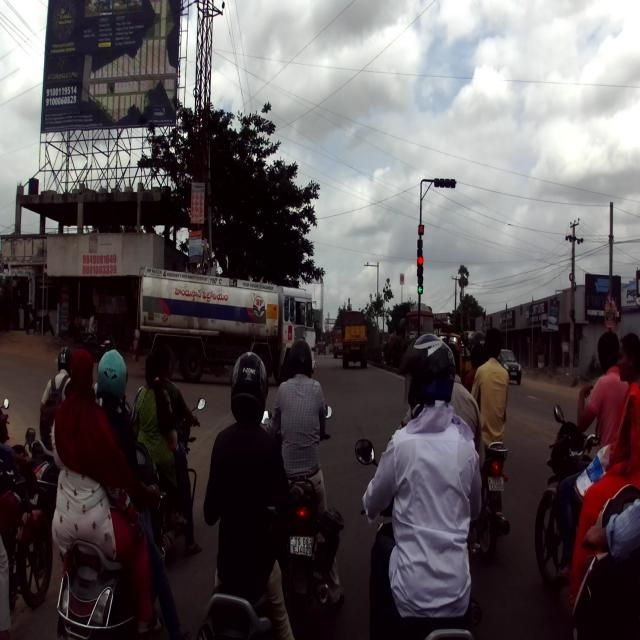motorcycle: (534, 404, 605, 594), (470, 440, 510, 561)
scooter: (55, 445, 167, 639)
truck: (129, 267, 316, 381)
